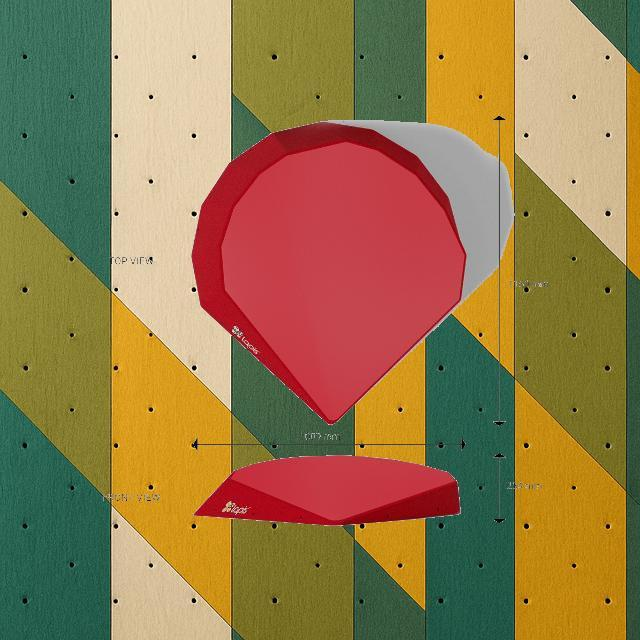Volume: (189, 120, 467, 424), (192, 454, 460, 526)
